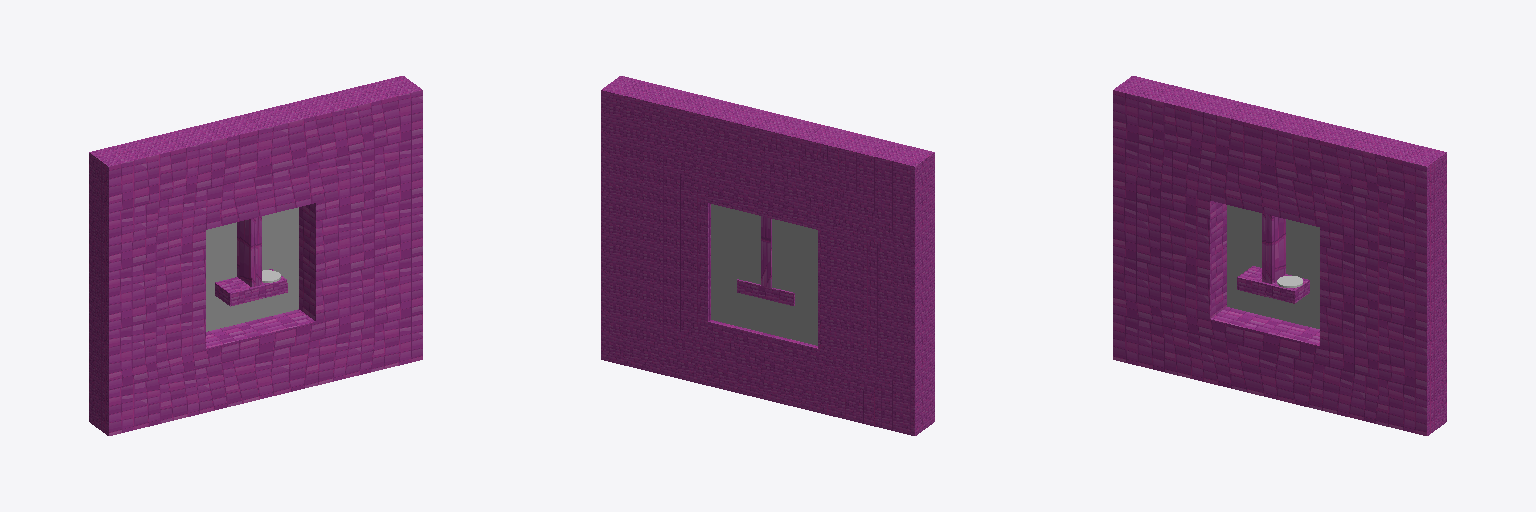
3 views of the same model, side by side, from view 1: azimuth 30°, elevation 25°; view 2: azimuth 150°, elevation 25°; view 3: azimuth 330°, elevation 25° (orthographic).
Parts seen in each view (by area): view 1: Cube, Plane, Cube.001, Cube.002_Cube.003; view 2: Cube, Plane, Cube.002_Cube.003, Cube.001; view 3: Cube, Plane, Cube.001, Cube.002_Cube.003.
Boxes of the visible parts, x1=… form: Cube: x1=89, y1=76, x2=422, y2=435; Plane: x1=206, y1=207, x2=298, y2=331; Cube.001: x1=237, y1=216, x2=261, y2=286; Cube.002_Cube.003: x1=215, y1=269, x2=287, y2=306; Cube: x1=601, y1=76, x2=934, y2=435; Plane: x1=711, y1=204, x2=817, y2=345; Cube.002_Cube.003: x1=737, y1=279, x2=794, y2=305; Cube.001: x1=761, y1=216, x2=771, y2=287; Cube: x1=1113, y1=76, x2=1446, y2=435; Plane: x1=1227, y1=205, x2=1319, y2=328; Cube.001: x1=1262, y1=213, x2=1285, y2=283; Cube.002_Cube.003: x1=1237, y1=266, x2=1309, y2=303.
Bounding box in the file's own units: 33.12 × 27.16 × 3.61.
3 materials, 1 textured.